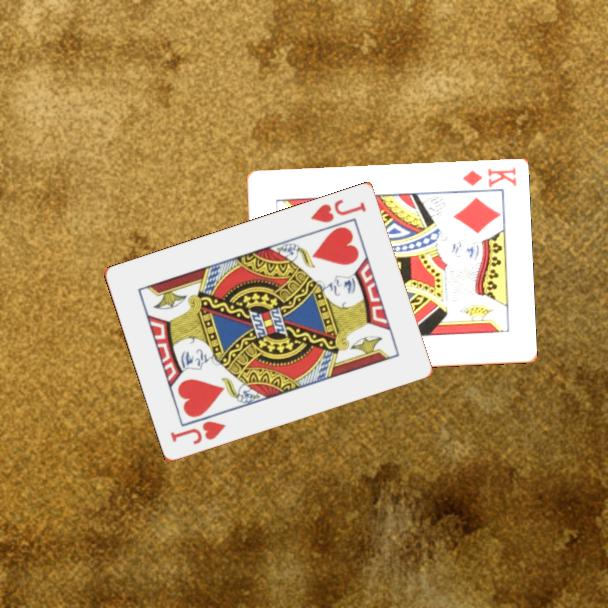d13: (459, 164, 519, 191)
h11: (166, 418, 229, 448), (306, 196, 369, 226)
